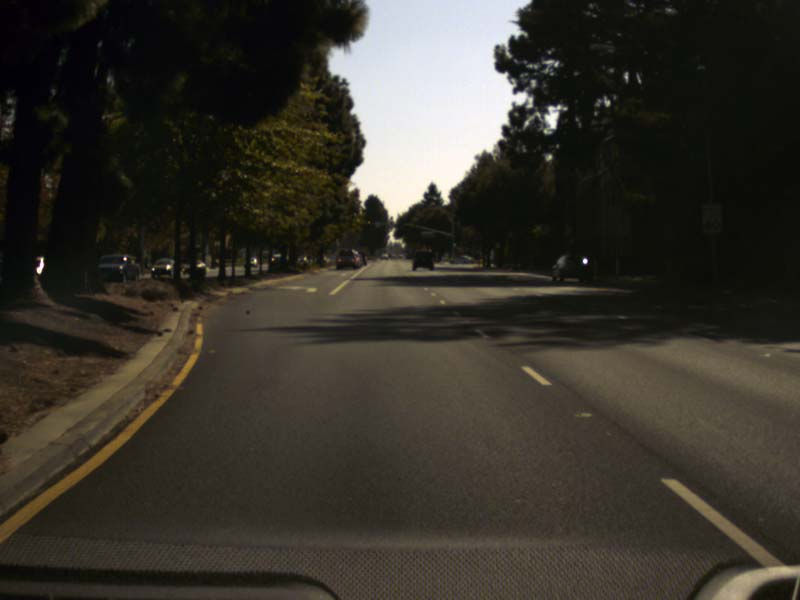Red: (367, 218, 371, 229)
